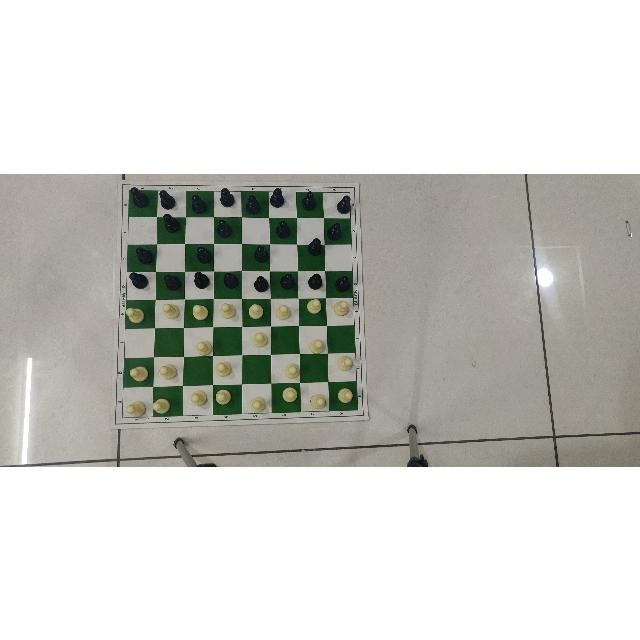black-pawn: (129, 185, 150, 208), (162, 212, 182, 233), (159, 188, 177, 210), (191, 192, 209, 214), (245, 193, 263, 215), (128, 271, 149, 289), (163, 272, 182, 291), (216, 218, 234, 238), (220, 186, 236, 208), (136, 245, 154, 264), (253, 244, 270, 264), (306, 237, 323, 257), (301, 189, 317, 210), (279, 272, 297, 290), (196, 244, 213, 263), (334, 274, 351, 293), (269, 187, 285, 207), (275, 219, 291, 239), (326, 221, 342, 241), (193, 271, 210, 289), (223, 271, 240, 289), (336, 194, 351, 214), (253, 274, 269, 292), (307, 272, 323, 290)
white-pawn: (125, 399, 147, 419), (150, 395, 171, 415), (129, 363, 151, 382), (158, 361, 178, 380), (189, 388, 208, 407), (126, 306, 146, 324), (192, 301, 210, 320), (162, 301, 180, 319), (214, 359, 232, 377), (281, 385, 299, 403), (214, 387, 231, 406), (195, 338, 213, 355), (332, 299, 349, 317), (336, 386, 353, 404), (309, 392, 326, 410), (249, 395, 266, 413), (247, 302, 264, 319), (336, 354, 353, 371), (219, 302, 236, 318), (274, 303, 291, 319), (306, 297, 322, 314), (252, 331, 268, 347), (309, 338, 325, 354), (284, 362, 300, 378)
